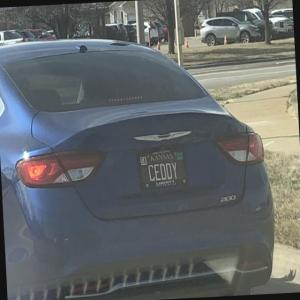Plate: (136, 144, 189, 191)
